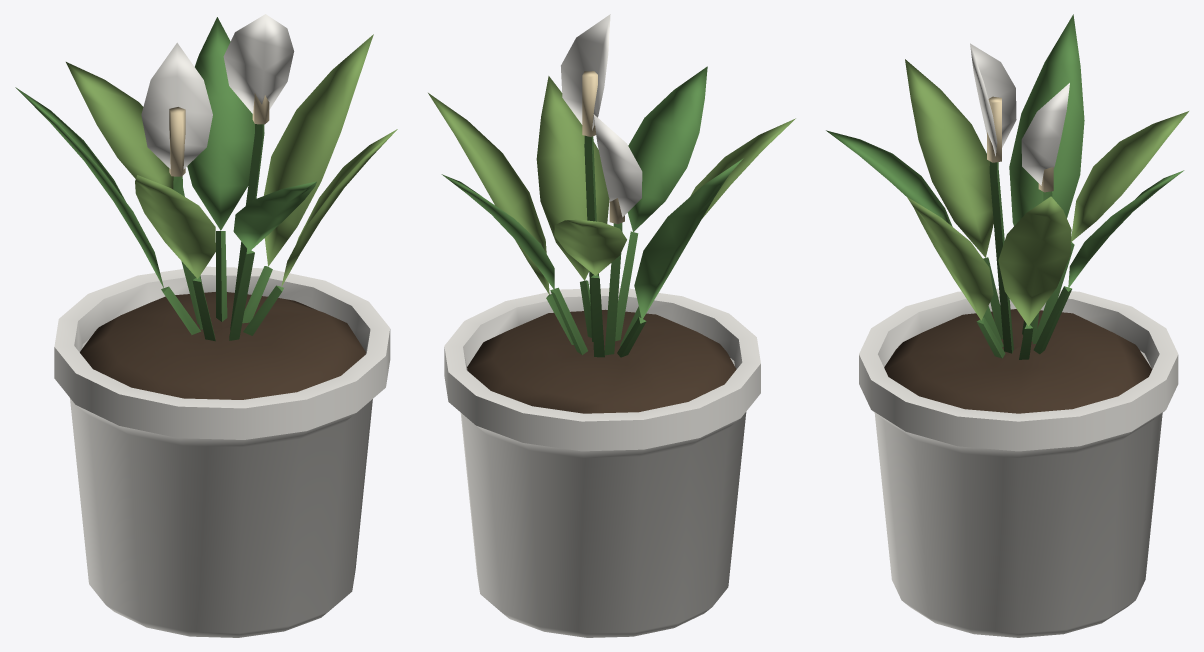
The model's file is potSmall.glb.
3 views of the same model, side by side, from view 1: azimuth 30°, elevation 25°; view 2: azimuth 150°, elevation 25°; view 3: azimuth 270°, elevation 25° (orthographic). The views are drawn at different scales.
Visible parts, largest first — view 1: potSmall; view 2: potSmall; view 3: potSmall.
Boxes of the visible parts, <box> form: potSmall: <box>15,14,397,637</box>; potSmall: <box>428,14,795,637</box>; potSmall: <box>826,14,1188,637</box>.
Size of the model in its own units: 0.1611 by 0.2598 by 0.1552.
